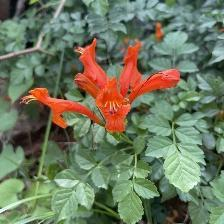honeysuckle: (15, 80, 104, 134)
